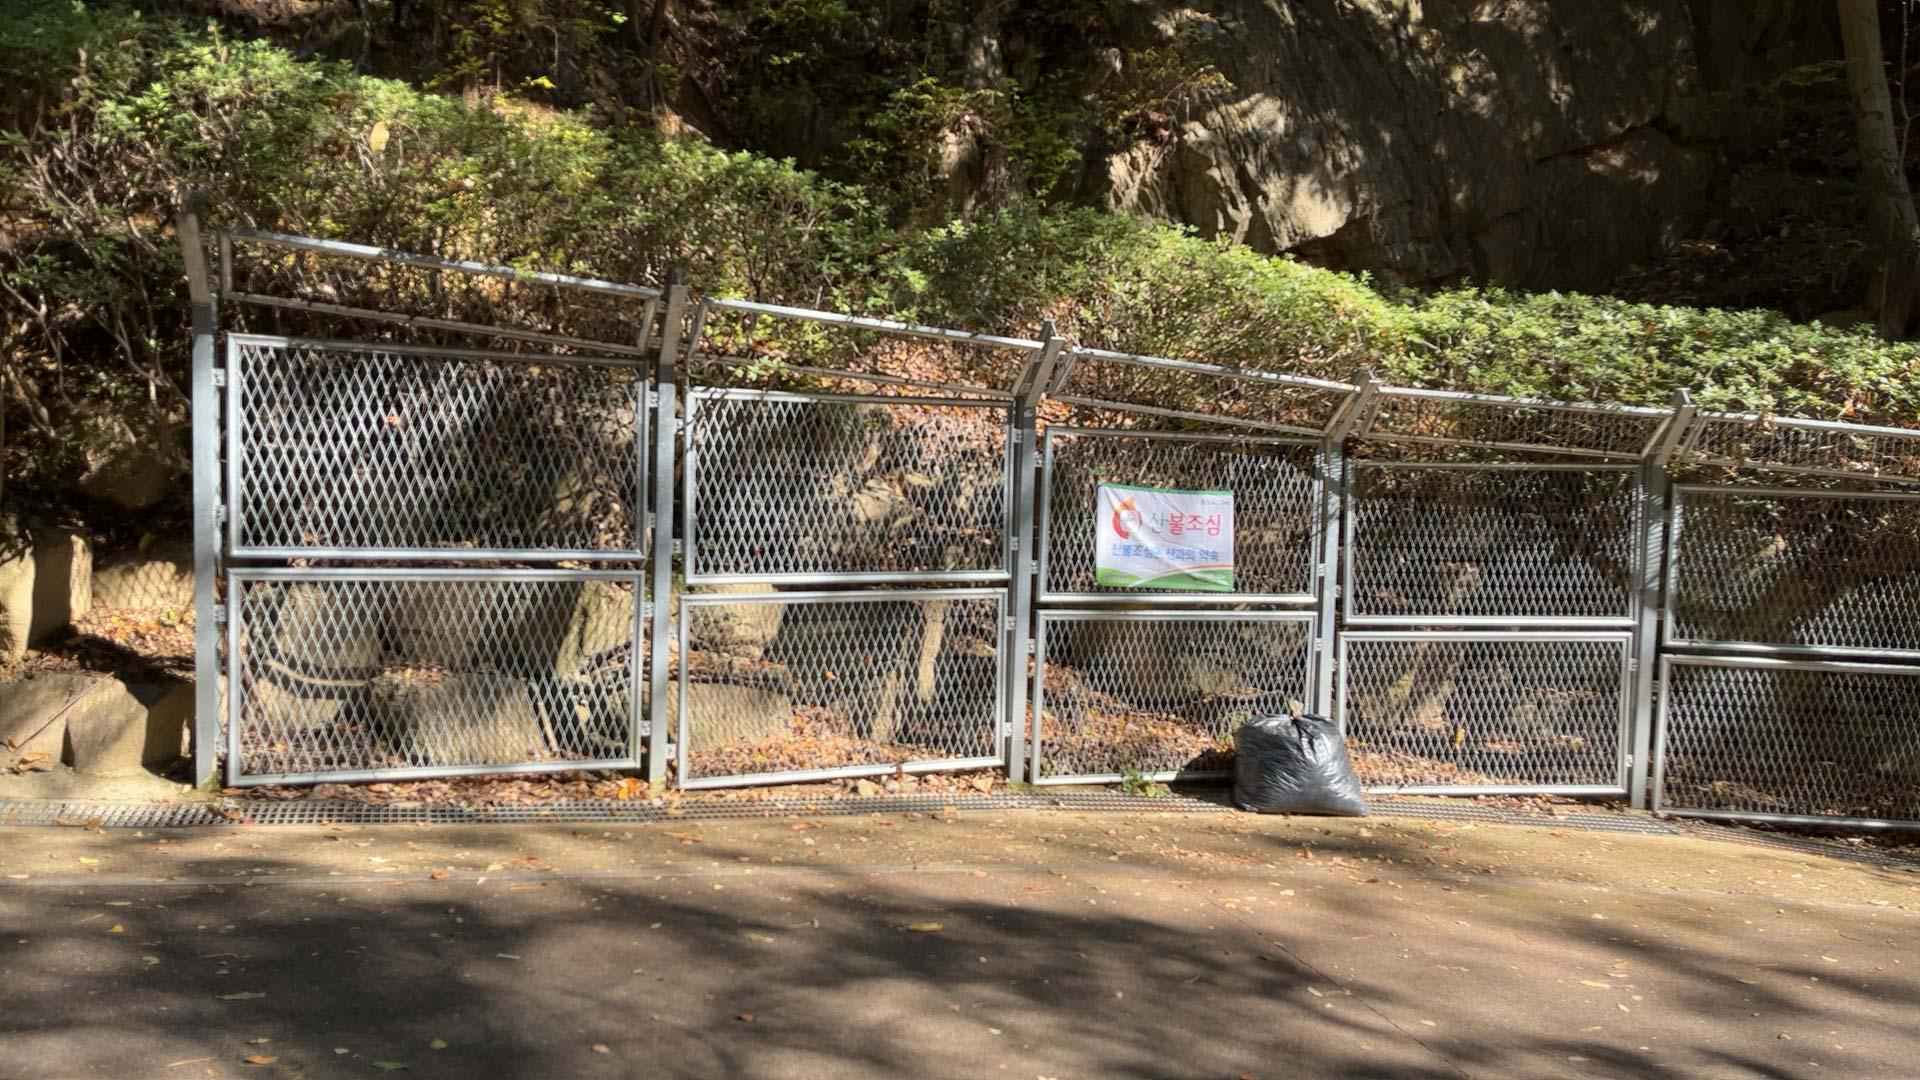black_bag: (1224, 695, 1379, 828)
